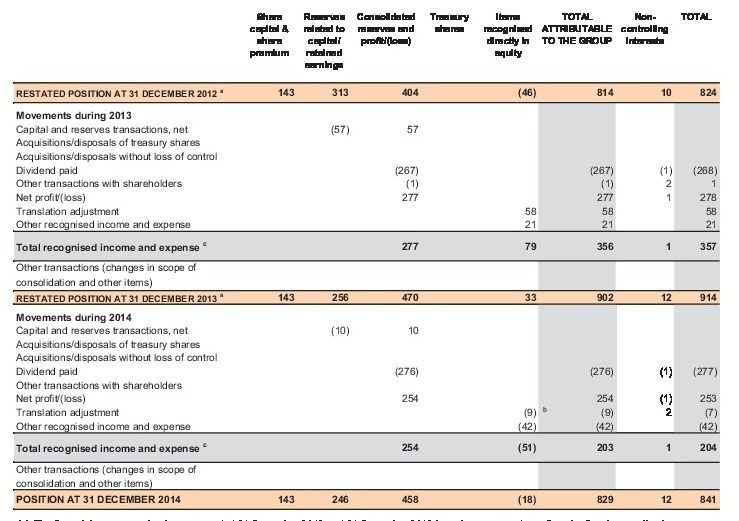table: (0, 0, 739, 521)
